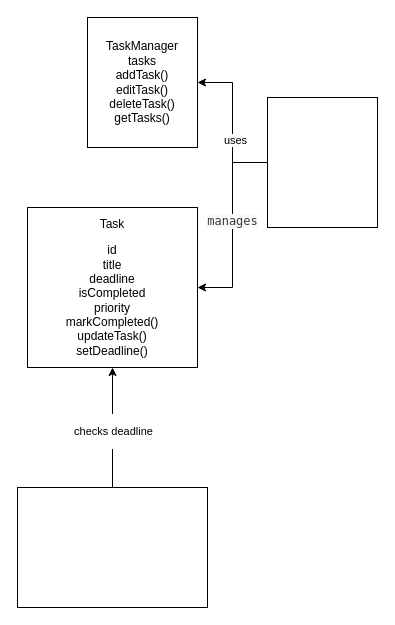
The diagram is 395 pixels wide and 625 high, and some of its shapes have lost their labels. The centre of each missing label's shape, as x and y in pixels:
"DeadlineReminder checkUpcomingDeadlines() sendReminder()" goes at [112,547].
"UserInterface taskInput taskList renderTasks() displayMessage()" goes at [322,162].
